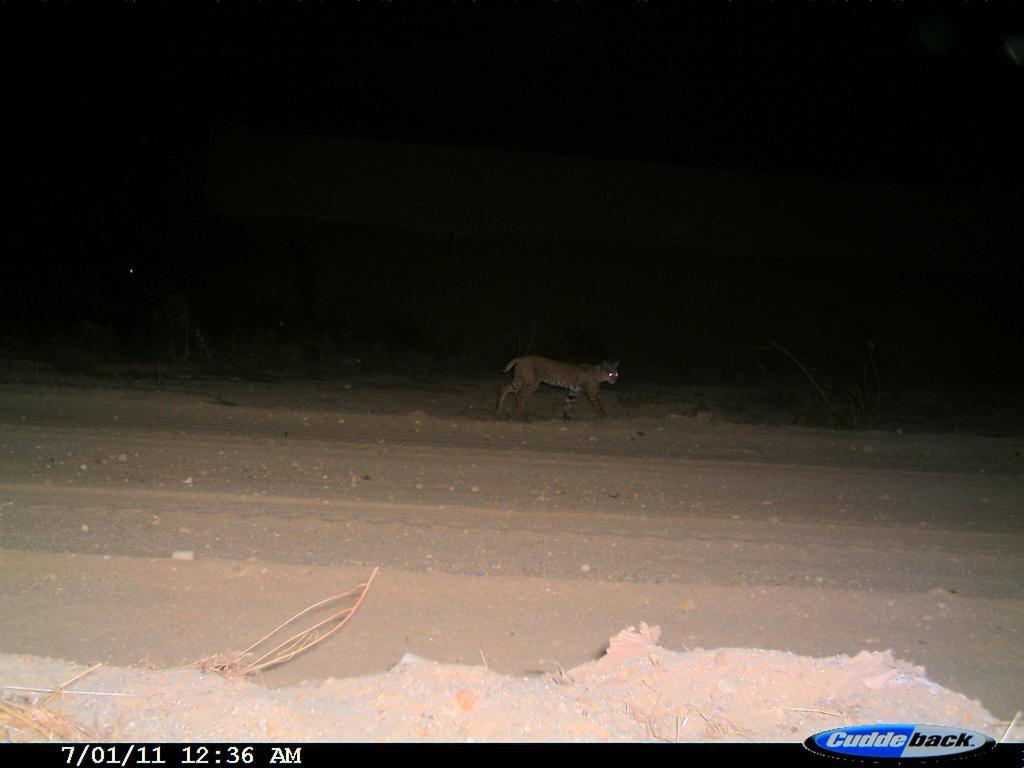bobcat: (489, 347, 634, 425)
